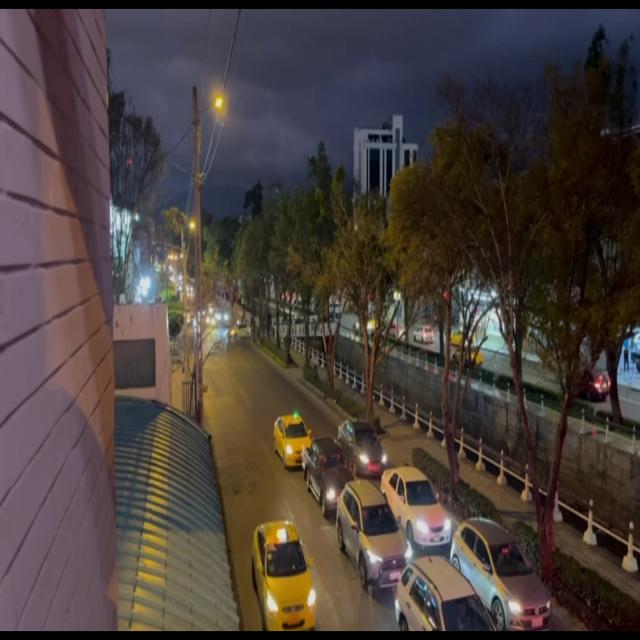CMT: (305, 438, 352, 512)
SUV: (338, 482, 406, 588)
